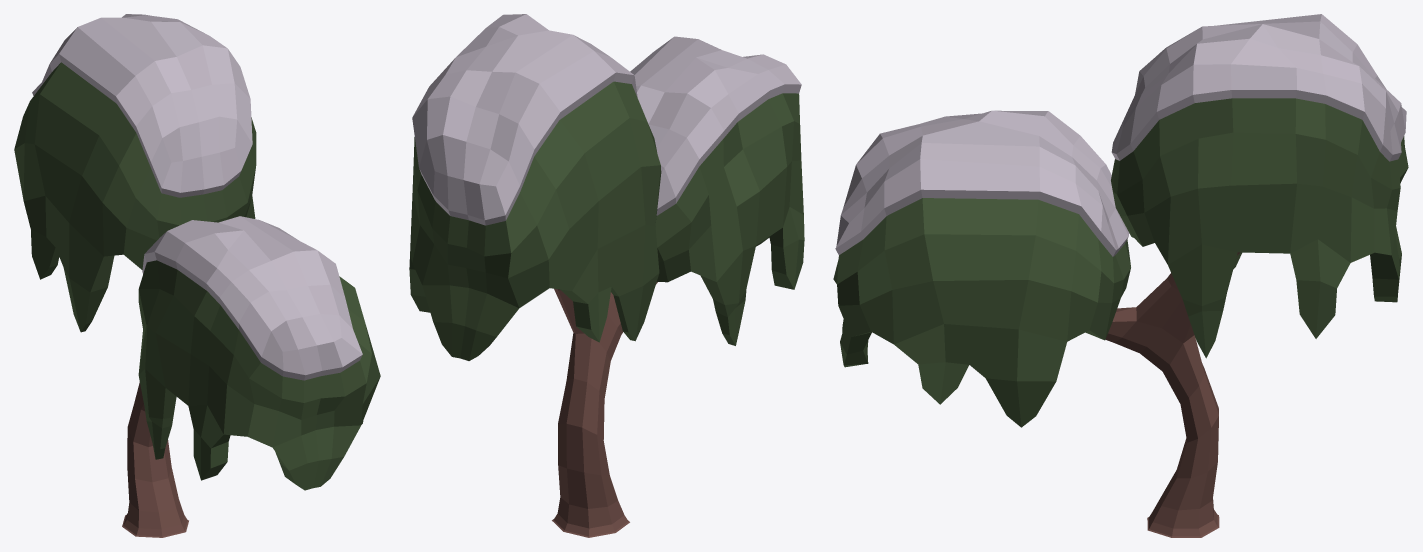
Rendered from Willow_Snow_5.glb.
3 views of the same model, side by side, from view 1: azimuth 30°, elevation 25°; view 2: azimuth 150°, elevation 25°; view 3: azimuth 270°, elevation 25° (orthographic). The views are drawn at different scales.
Parts seen in each view (by area): view 1: Willow_Snow_5; view 2: Willow_Snow_5; view 3: Willow_Snow_5.
Boxes of the visible parts, x1,y1,x2,y2 form: Willow_Snow_5: (14, 14, 380, 537); Willow_Snow_5: (409, 14, 804, 537); Willow_Snow_5: (833, 14, 1408, 537).
Bounding box in the file's own units: 101 × 246 × 249.
